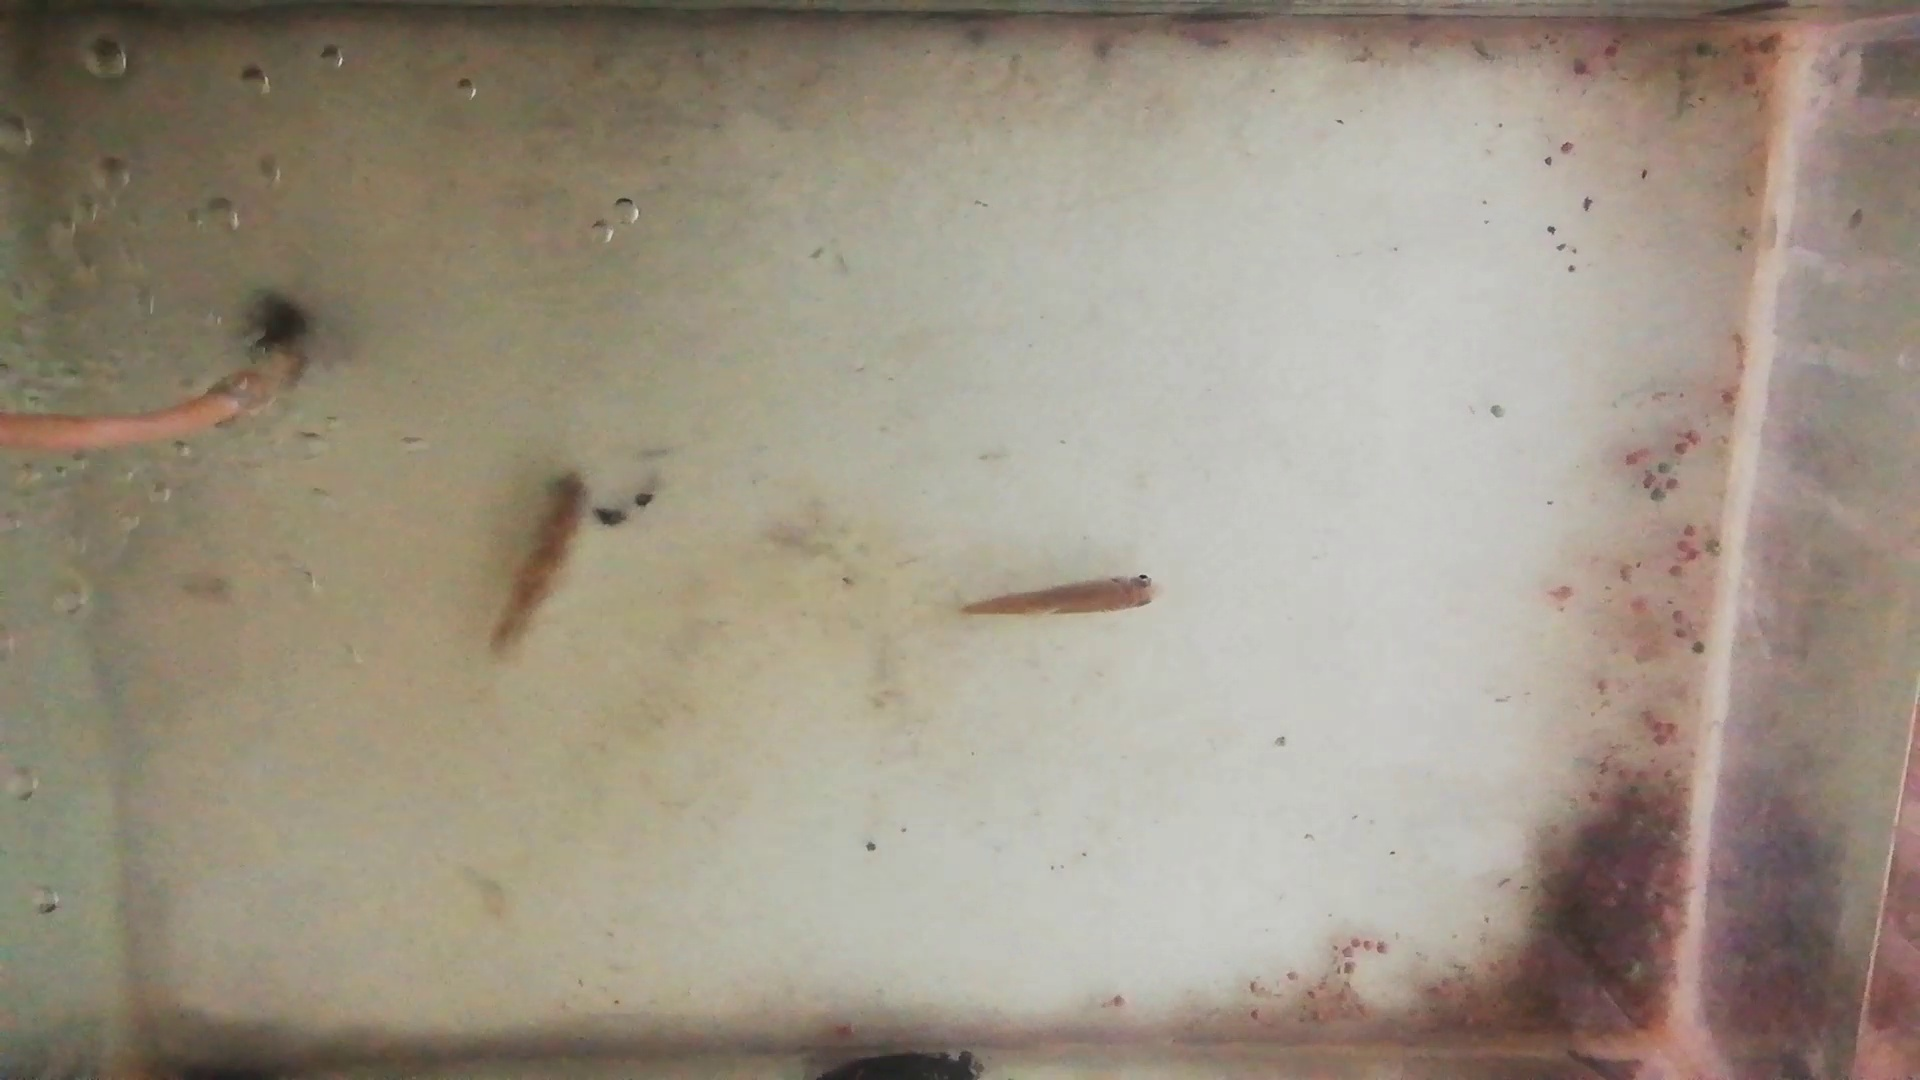fish: (497, 473, 589, 659), (963, 574, 1162, 618)
